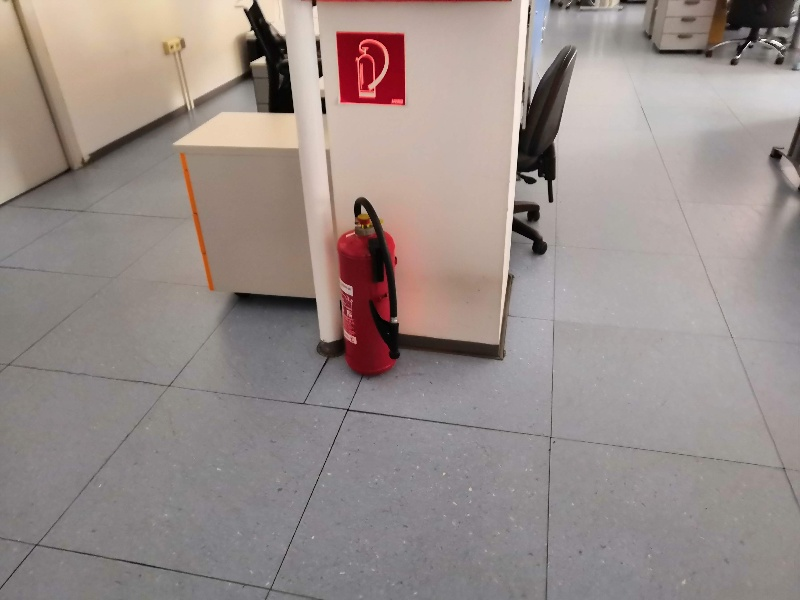vataparat: (337, 199, 399, 376)
